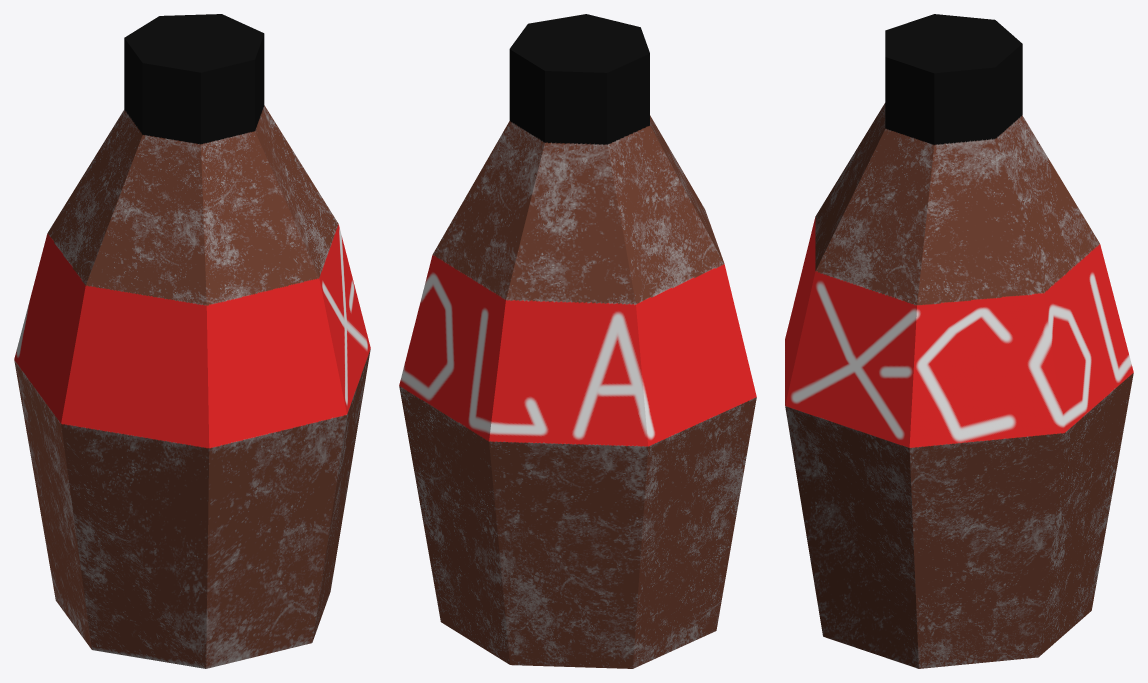
File: xcola.glb
The picture shows the model from 3 angles, left to right: view 1: azimuth 30°, elevation 25°; view 2: azimuth 150°, elevation 25°; view 3: azimuth 270°, elevation 25°; orthographic projection.
Visible parts, largest first — view 1: Цилиндр; view 2: Цилиндр; view 3: Цилиндр.
Boxes of the visible parts, x1,y1,x2,y2 form: Цилиндр: [14, 14, 370, 668]; Цилиндр: [399, 14, 756, 668]; Цилиндр: [785, 14, 1133, 668].
Bounding box in the file's own units: 1.95 × 3.41 × 1.9.
Materials: 1 (1 with a texture image).
